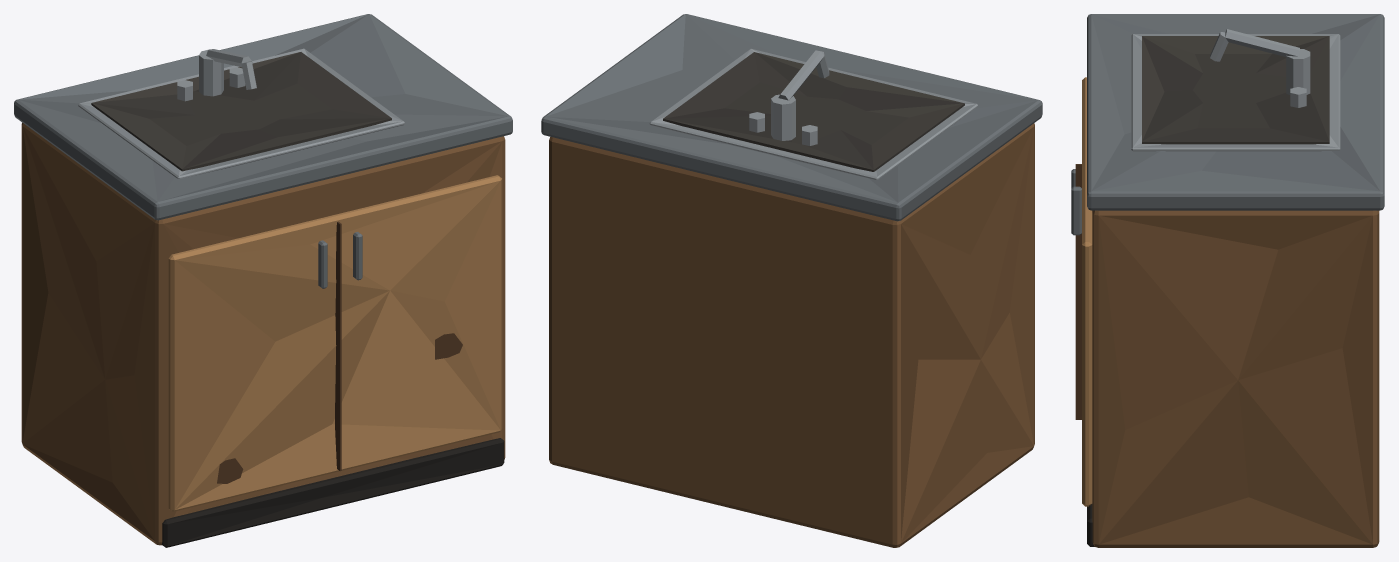
The model's file is sink_tap_kuhonnaya_idle.glb.
3 views of the same model, side by side, from view 1: azimuth 30°, elevation 25°; view 2: azimuth 150°, elevation 25°; view 3: azimuth 270°, elevation 25° (orthographic). The views are drawn at different scales.
Visible parts, largest first — view 1: sink_tap_kuhonnaya_idle; view 2: sink_tap_kuhonnaya_idle; view 3: sink_tap_kuhonnaya_idle.
Boxes of the visible parts, x1,y1,x2,y2 form: sink_tap_kuhonnaya_idle: [14, 14, 512, 547]; sink_tap_kuhonnaya_idle: [541, 14, 1042, 547]; sink_tap_kuhonnaya_idle: [1071, 14, 1384, 547].
Bounding box in the file's own units: 0.82 × 0.89 × 0.6.
Materials: 1 (1 with a texture image).
